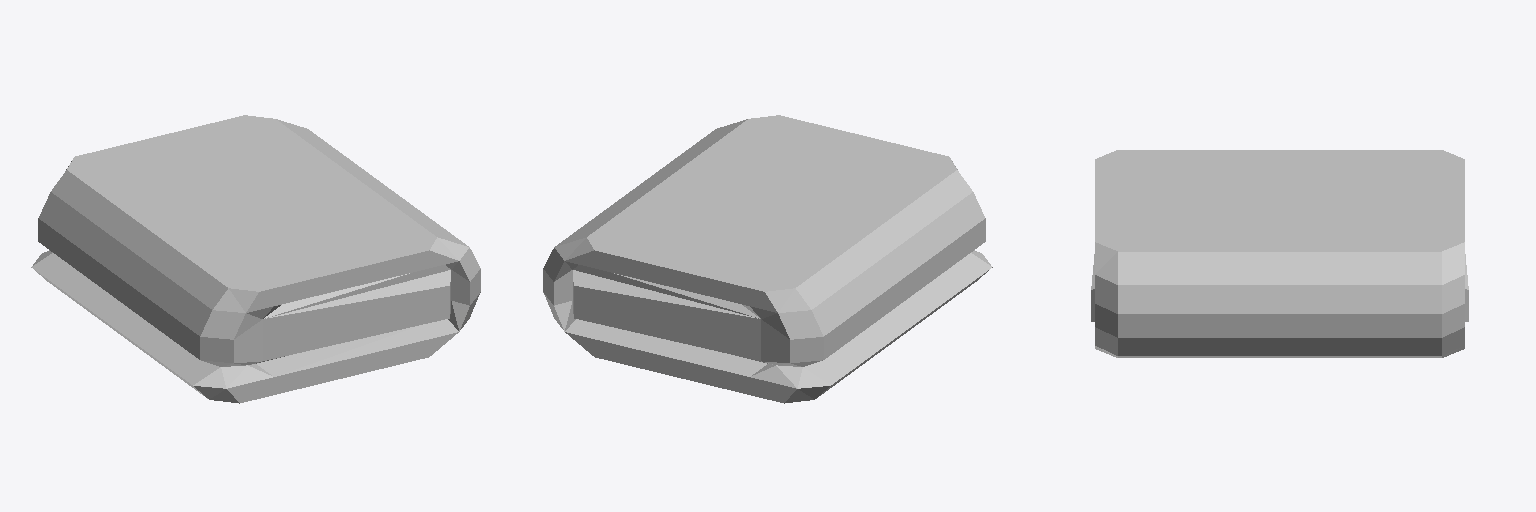
File: Room_301_0_15.obj
3 renders of one model, left to right at view 1: azimuth 30°, elevation 25°; view 2: azimuth 150°, elevation 25°; view 3: azimuth 270°, elevation 25°, orthographic.
Parts seen in each view (by area): view 1: Towel; view 2: Towel; view 3: Towel.
Part boxes in pixels (x1,y1,x2,y2): Towel: (31, 115, 480, 403); Towel: (543, 115, 992, 403); Towel: (1091, 150, 1468, 357).
Size of the model in its own units: 0.4533 by 0.1609 by 0.5154.